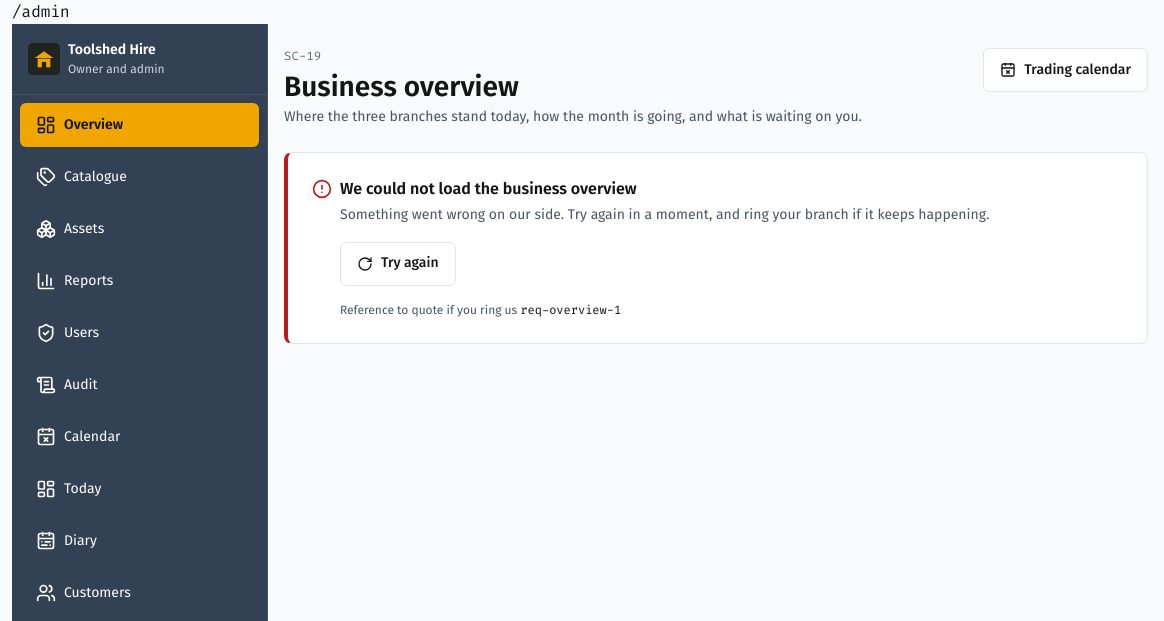
when the figures cannot be read › says so with the reference, and reads them again on a retry
The width and height of the screenshot is (1164, 621).
Expected: the message shows "We could not load the business overview", [340, 179, 637, 198]
Expected: the text "req-overview-1" is shown, [520, 302, 621, 318]
Click the button "Try again".
click(398, 264)  # box [340, 242, 456, 286]
(page scrolled)
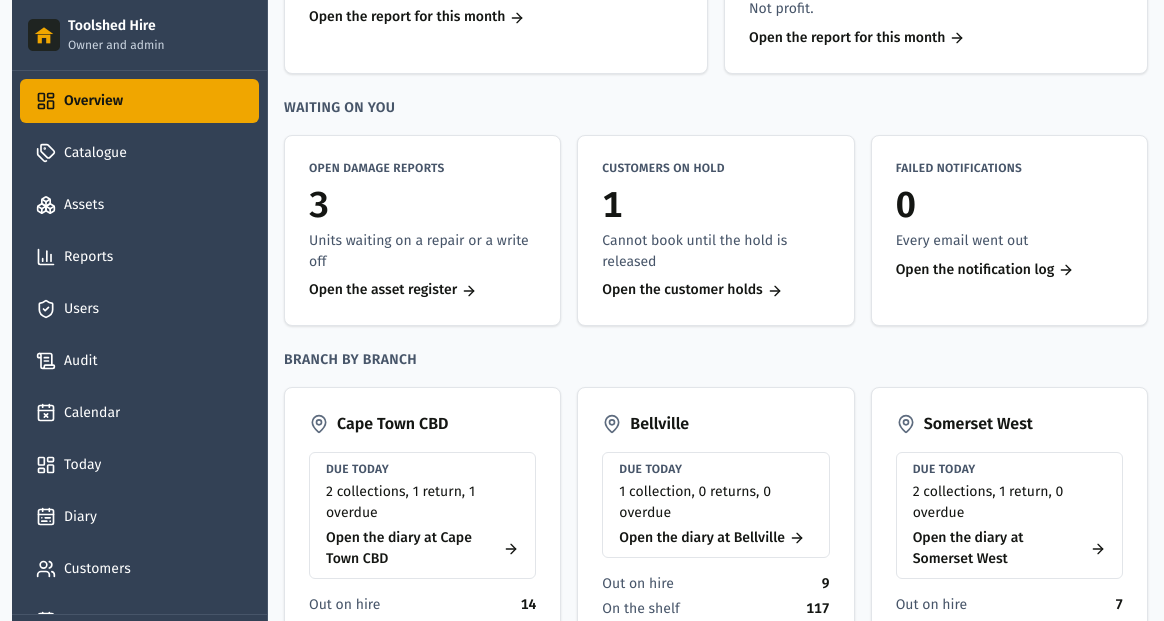
Now the heading "Branch by branch" is shown, box [284, 351, 417, 368]
